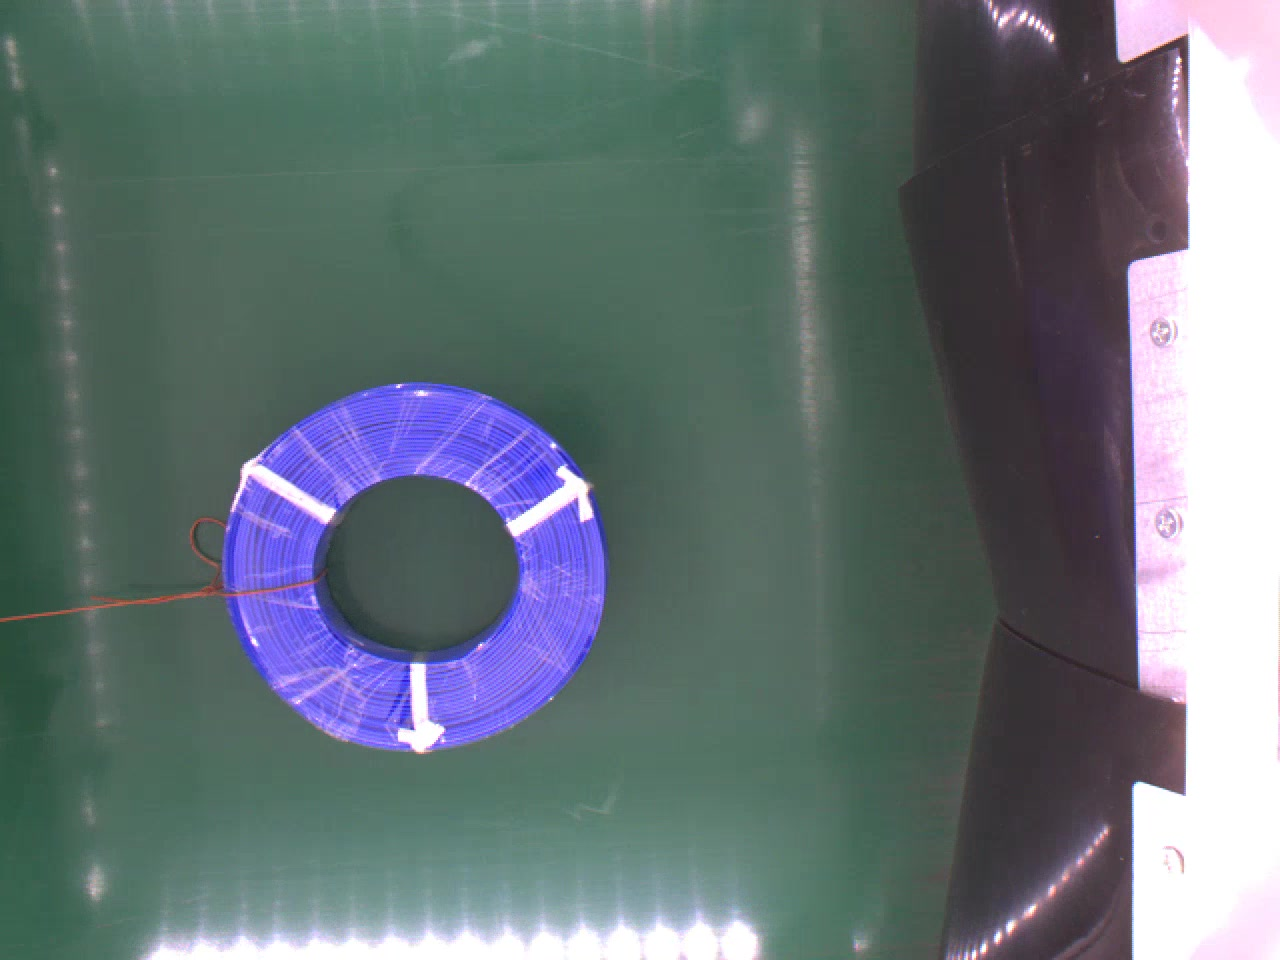blue: (222, 376, 608, 756)
